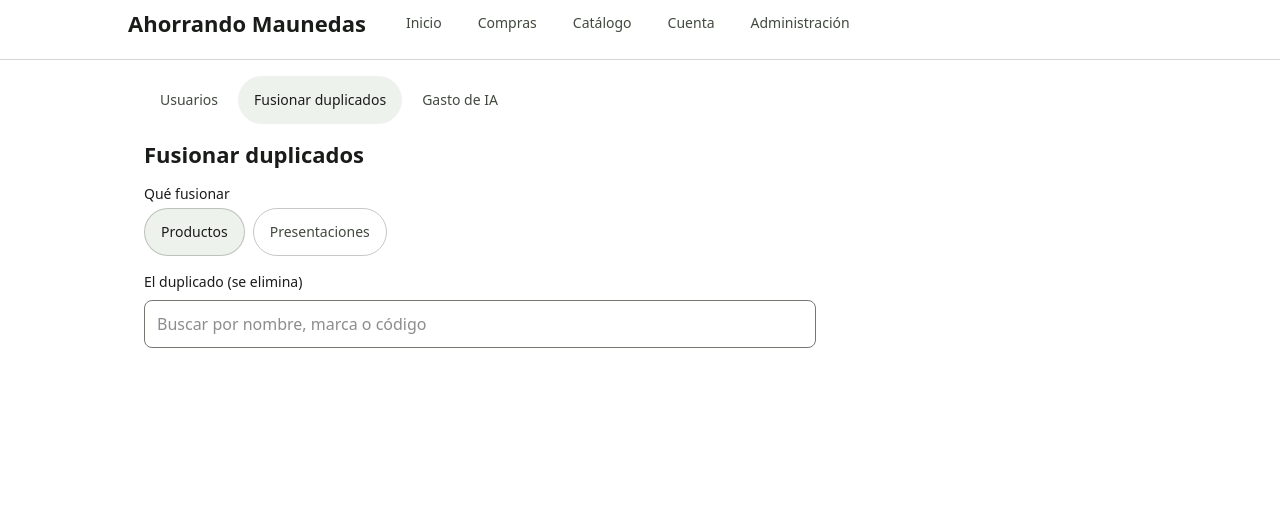
W-12 merge › offers only variants of the same measure, and says why the server refuses
The image size is (1280, 532).
Click the radio button labelled "Presentaciones": x=320, y=232 [253,208,387,256]
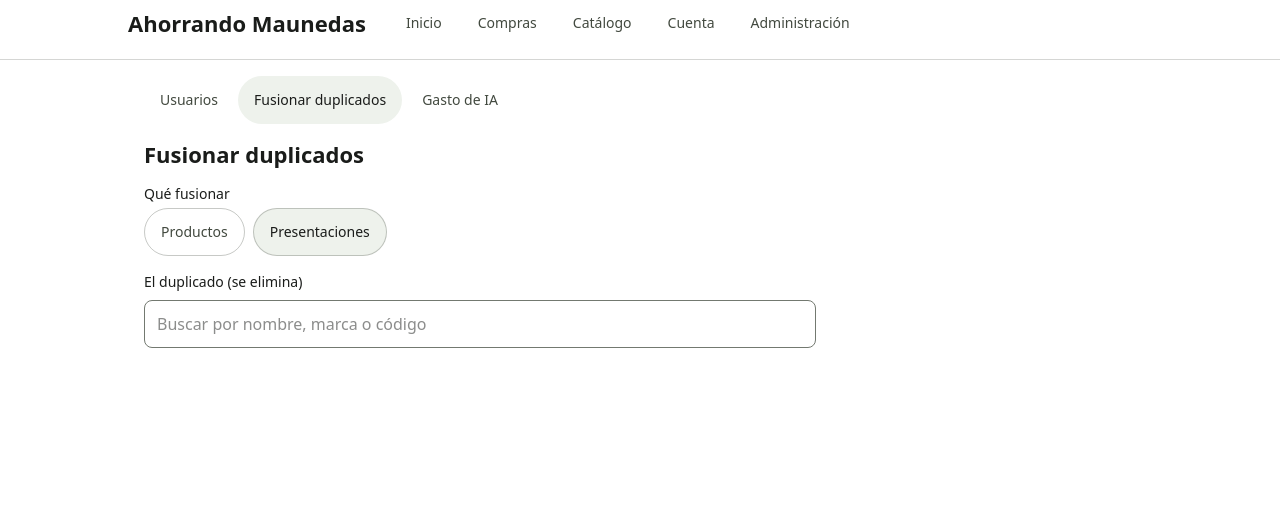
In the search field named "Buscar el duplicado (se elimina)": x=480, y=324 [144,300,816,348], type "leche"
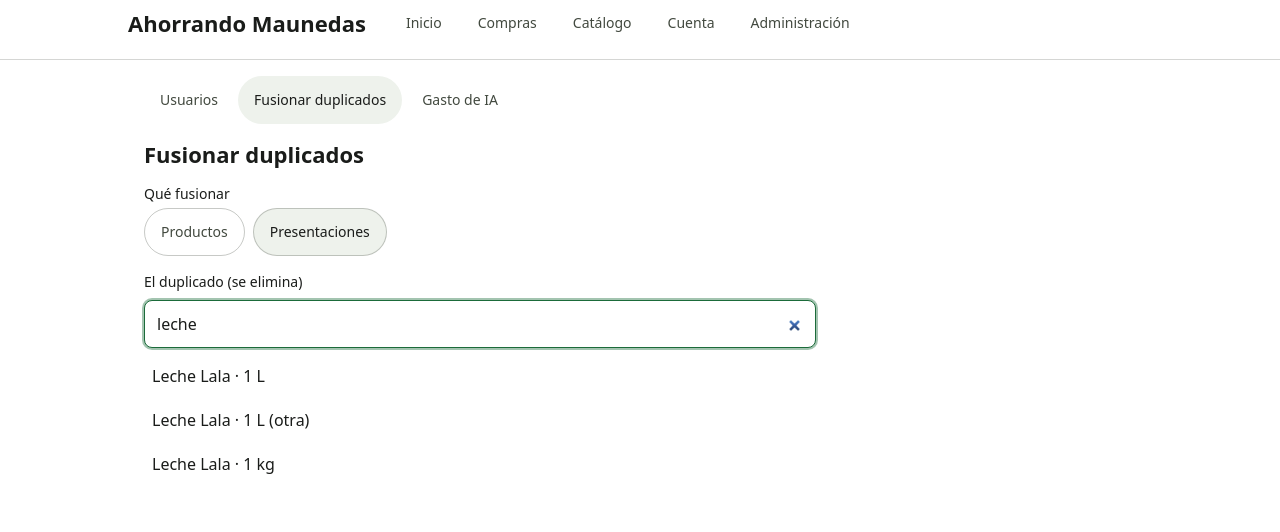
Click the button "Leche Lala · 1 L": x=208, y=376 [144,356,816,396]
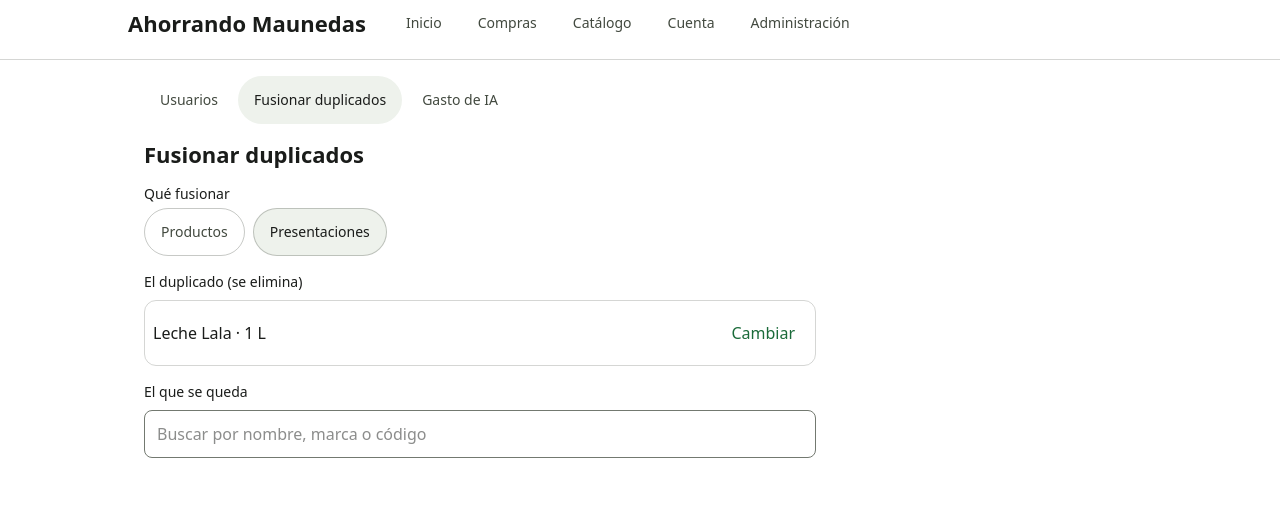
In the search field named "Buscar el que se queda": x=480, y=434 [144,410,816,458], type "leche"
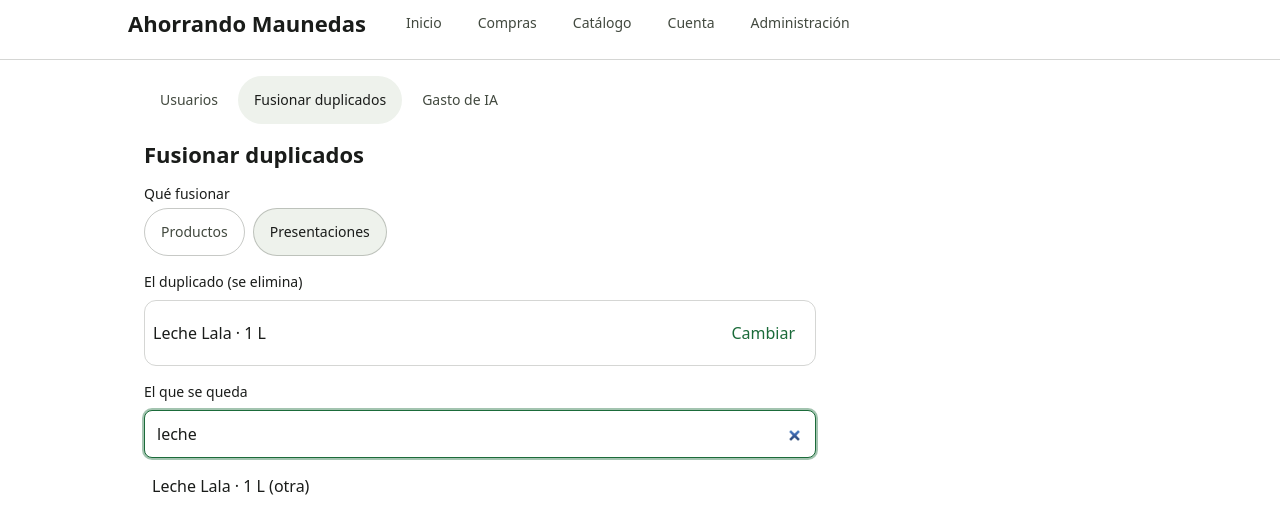
Check: the button "Leche Lala · 1 kg" is not shown
Click the button "Leche Lala · 1 L (otra)": x=231, y=486 [144,466,816,506]
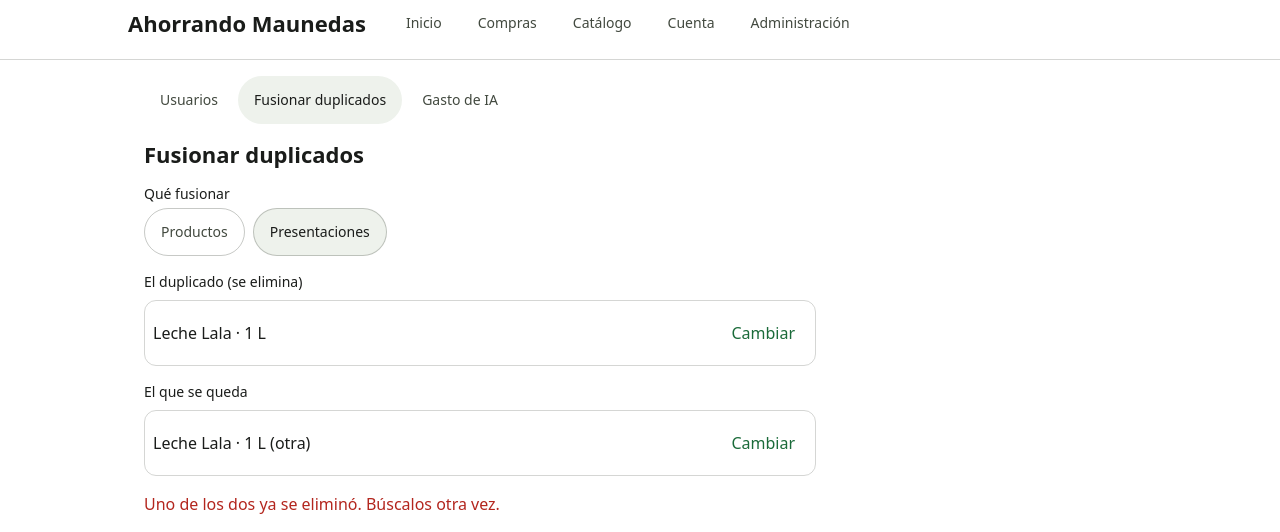
Check: the message reads "Uno de los dos ya se eliminó. Búscalos otra vez.", box [144,493,500,515]
